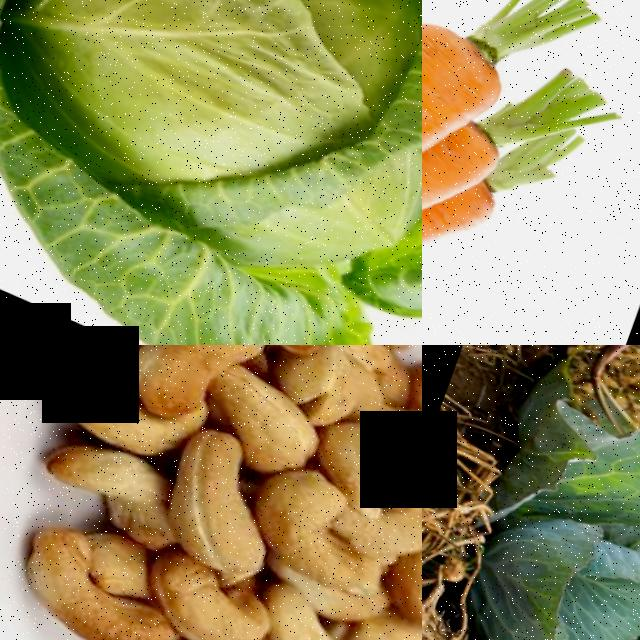cabbage: (0, 0, 422, 345), (422, 431, 640, 640)
carrot: (422, 0, 589, 169), (429, 42, 532, 206)
cashew: (156, 406, 292, 593), (257, 466, 411, 599), (28, 351, 189, 464), (9, 533, 171, 640), (38, 419, 170, 528), (309, 390, 422, 515), (138, 345, 252, 419), (261, 584, 393, 640), (22, 345, 188, 385), (394, 512, 422, 637)
